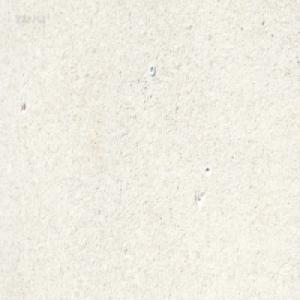Washer: (149, 63, 155, 75)
